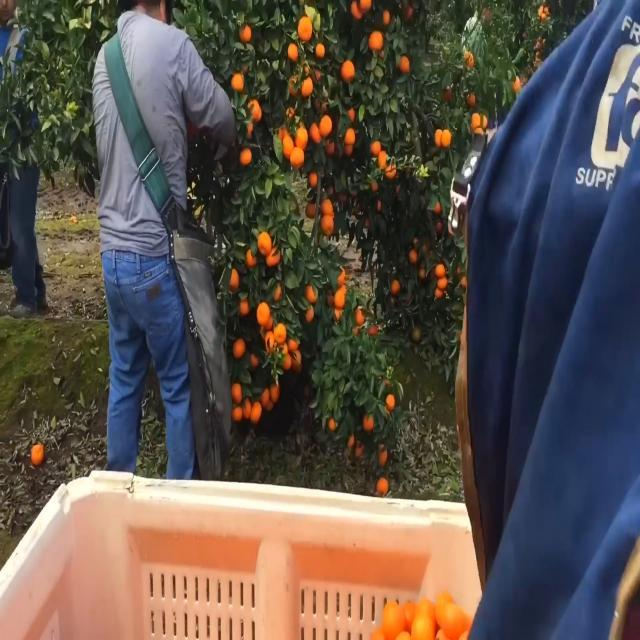Jeruk Sudah Matang: (367, 26, 386, 54), (256, 228, 273, 256), (297, 16, 314, 42), (299, 72, 315, 98), (248, 398, 262, 427), (228, 264, 242, 292), (231, 337, 248, 360), (289, 145, 306, 168), (320, 212, 336, 236), (340, 58, 356, 82), (256, 299, 270, 326), (308, 120, 322, 147), (271, 321, 288, 343), (230, 70, 247, 92), (282, 134, 296, 160), (304, 283, 320, 305), (230, 378, 244, 402), (320, 193, 334, 217), (319, 114, 333, 136), (238, 146, 253, 166), (439, 125, 452, 148), (334, 286, 346, 310), (399, 52, 411, 76), (295, 128, 309, 148), (362, 412, 376, 432), (376, 475, 388, 498), (470, 110, 482, 132), (344, 125, 357, 145), (370, 136, 382, 156), (239, 24, 252, 42), (406, 247, 418, 266), (272, 378, 280, 404), (434, 126, 444, 146), (389, 279, 402, 294), (434, 262, 446, 278), (308, 172, 320, 186), (386, 392, 396, 408), (316, 44, 324, 58)
